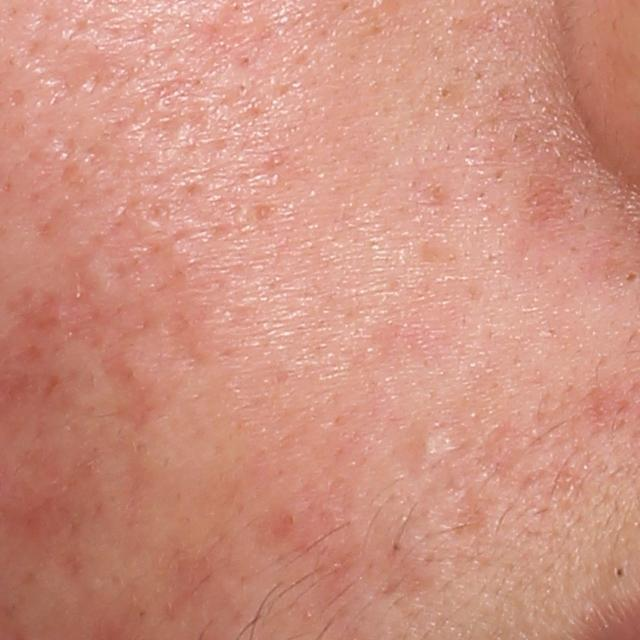atrophic_scar: (15, 24, 148, 107)
comedo: (414, 425, 446, 468), (433, 85, 458, 103), (610, 563, 630, 581)
